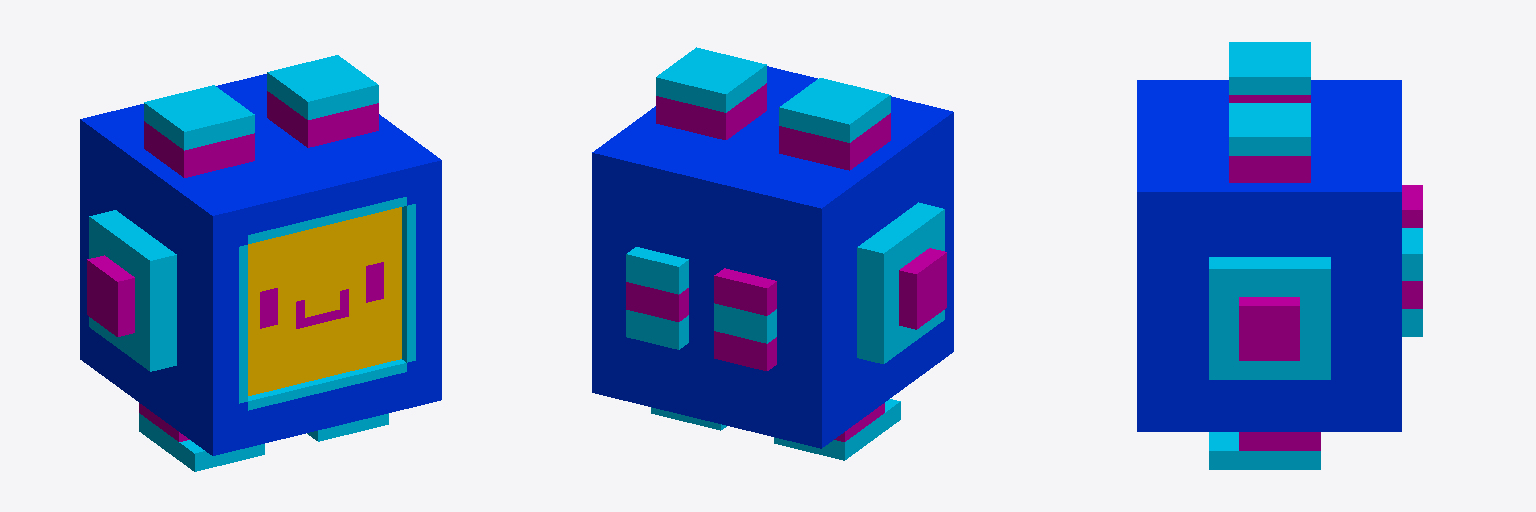
3 renders of one model, left to right at view 1: azimuth 30°, elevation 25°; view 2: azimuth 150°, elevation 25°; view 3: azimuth 270°, elevation 25°, orthographic.
Parts seen in each view (by area): view 1: object 1; view 2: object 1; view 3: object 1.
Boxes of the visible parts, x1=… form: object 1: x1=80, y1=55, x2=441, y2=471; object 1: x1=592, y1=47, x2=953, y2=460; object 1: x1=1137, y1=42, x2=1422, y2=469.
Size of the model in its own units: 3.6 by 3.6 by 2.8.
1 materials, 1 textured.